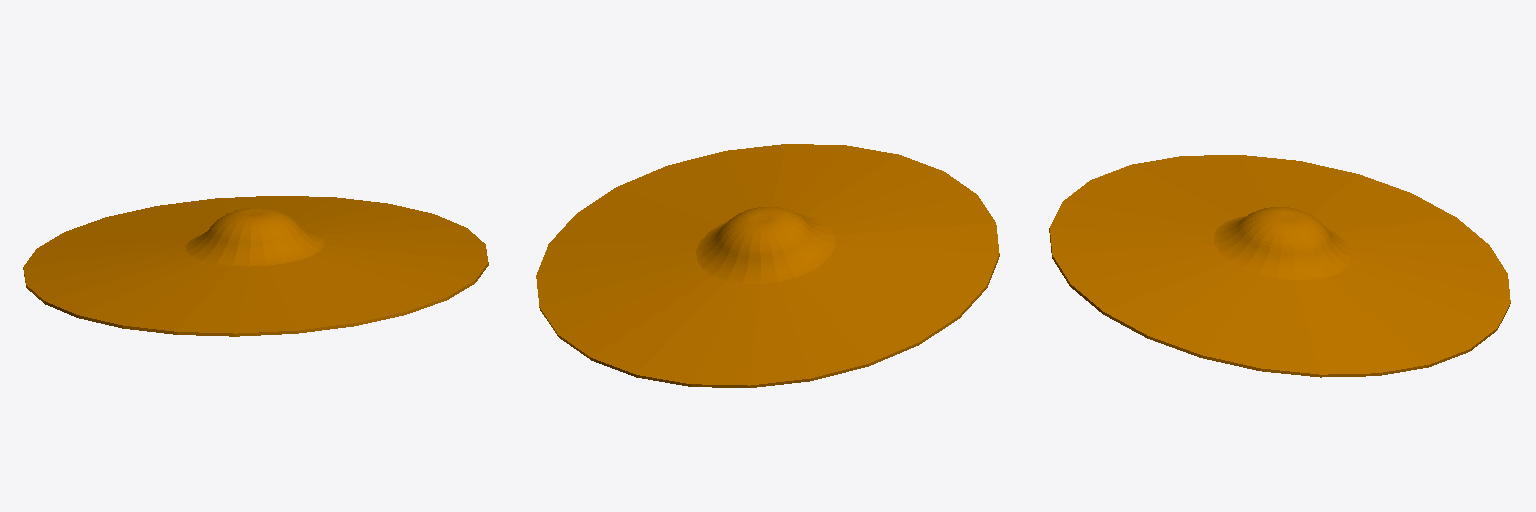
File: Ride.obj
The picture shows the model from 3 angles: view 1: azimuth 30°, elevation 25°; view 2: azimuth 150°, elevation 25°; view 3: azimuth 270°, elevation 25°; orthographic projection.
Parts seen in each view (by area): view 1: ComponentFBXASC03516_001; view 2: ComponentFBXASC03516_001; view 3: ComponentFBXASC03516_001.
Boxes of the visible parts, x1=… form: ComponentFBXASC03516_001: x1=23, y1=196, x2=488, y2=336; ComponentFBXASC03516_001: x1=536, y1=144, x2=999, y2=387; ComponentFBXASC03516_001: x1=1049, y1=155, x2=1510, y2=377.
Bounding box in the file's own units: 288 × 56.86 × 285.